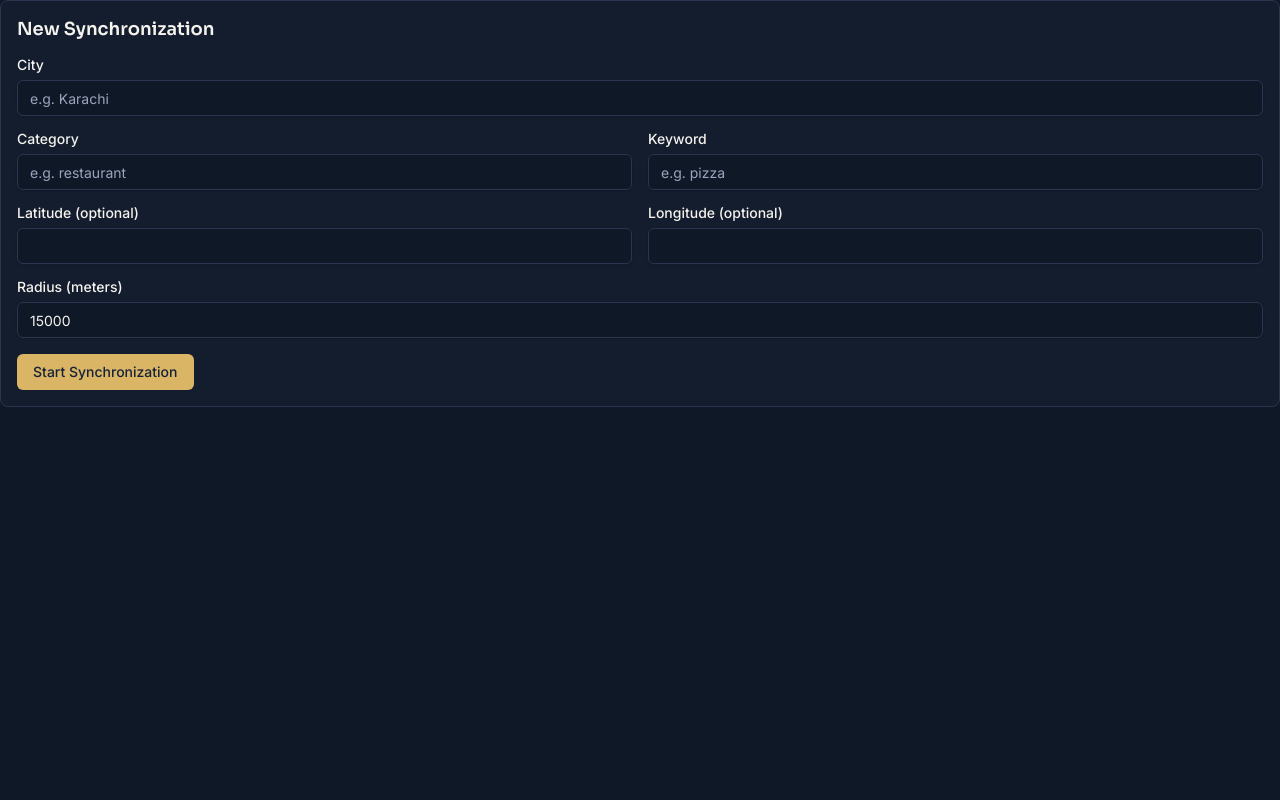
Scenario: PlaceSyncSearchForm › submits an empty search, lets the backend reject it, and shows the backend message verbatim
Click the button "Start Synchronization".
click(105, 372)  # box 17,354 -> 194,390
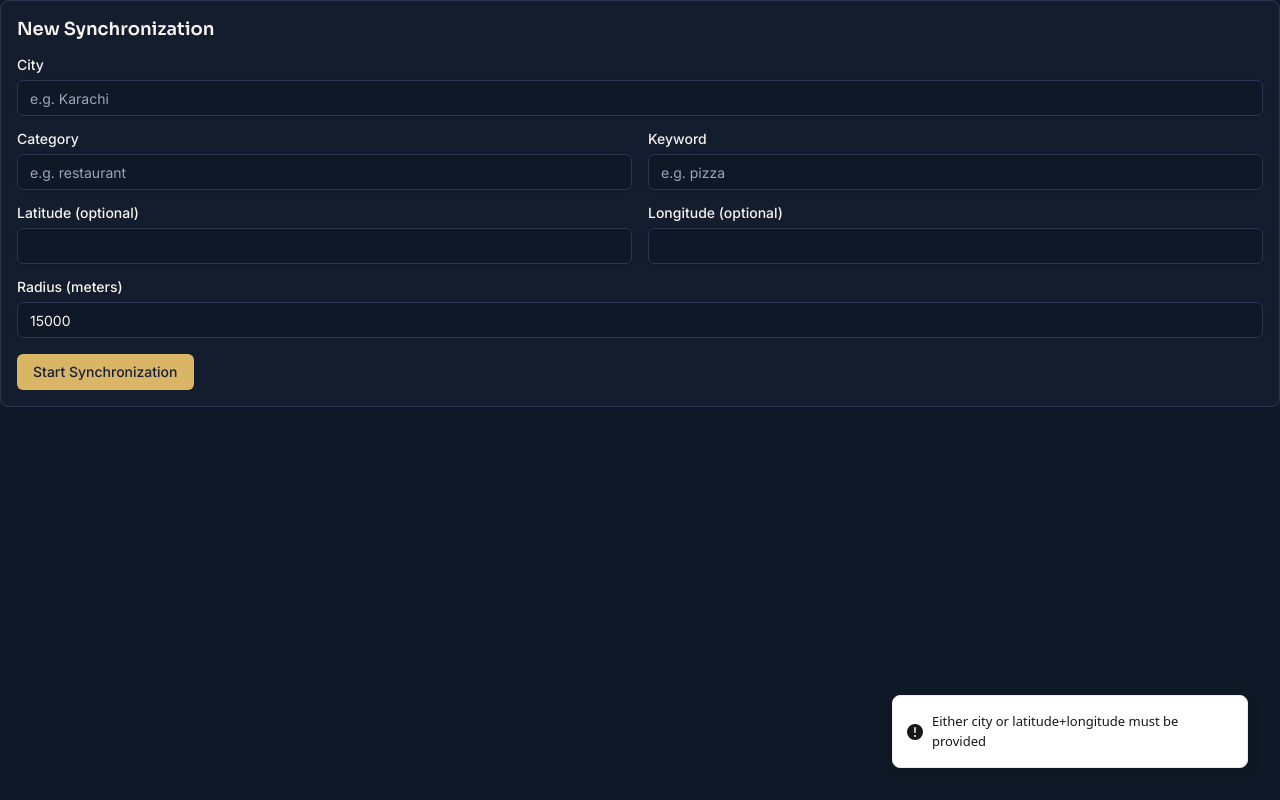
Now the text "Either city or latitude+longitude must be provided" is shown, box 932,712 -> 1178,750
